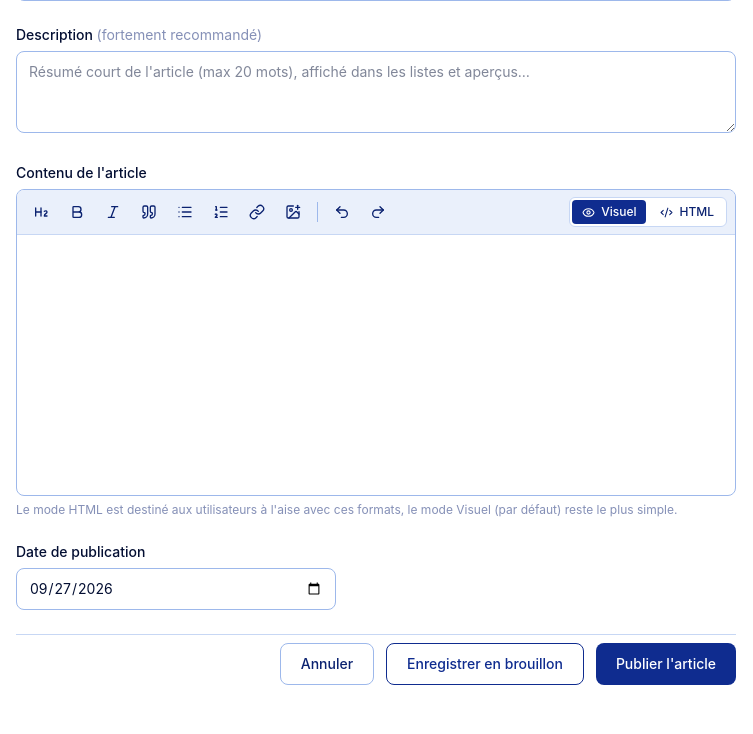
Test: RedactionArticle : article › bloque la publication d'un formulaire vide et affiche les erreurs
This screenshot has width=753, height=734.
(page scrolled)
Click the button "Publier l'article". click: (666, 664)
box: x1=596 y1=643 x2=736 y2=685
(page scrolled)
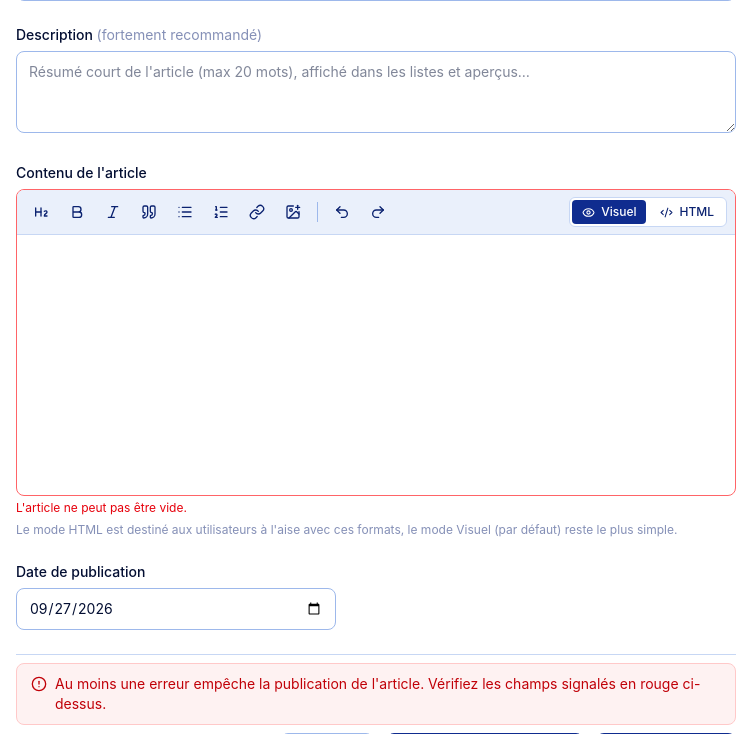
Now the text "L'article ne peut pas être vide." is shown, box x1=16 y1=500 x2=187 y2=515
Now the message shows "Au moins une erreur empêche la publication de l'article.", box x1=55 y1=675 x2=700 y2=712
